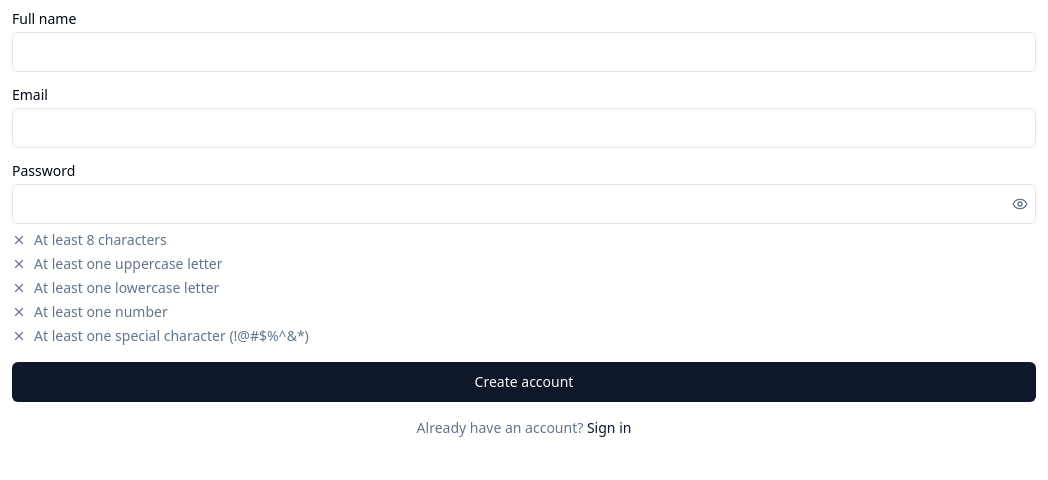
RegisterForm › shows a password complexity message
Type "Jane" into the field labelled "Full name" at [524, 52], box x1=12 y1=32 x2=1036 y2=72
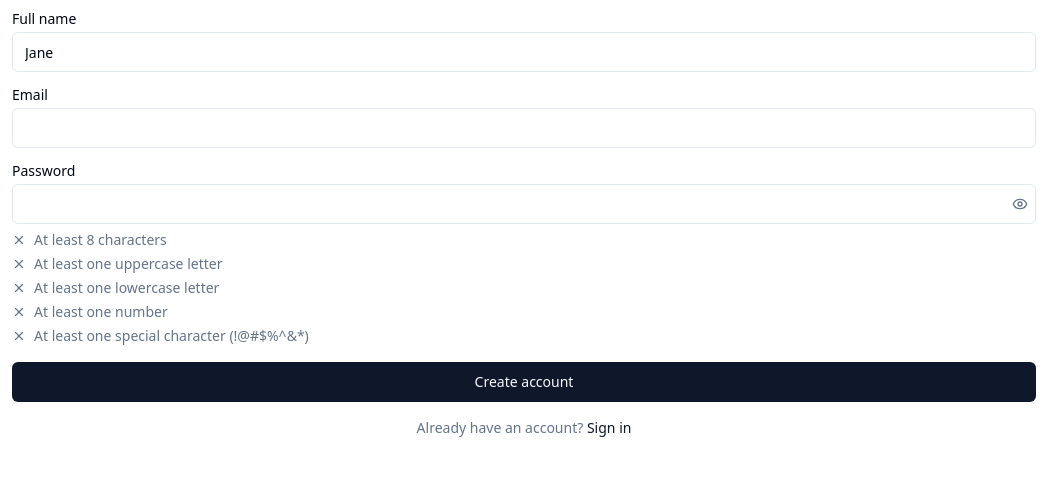
Type "jane@example.com" into the field labelled "Email" at [524, 128], box x1=12 y1=108 x2=1036 y2=148
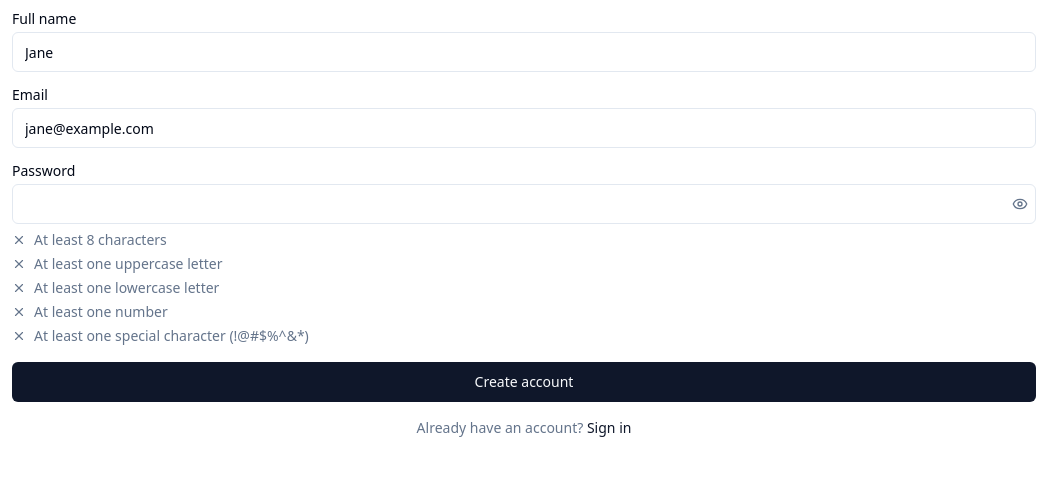
Type "alllowercase1!" into the password field labelled "Password" at [524, 204], box x1=12 y1=184 x2=1036 y2=224
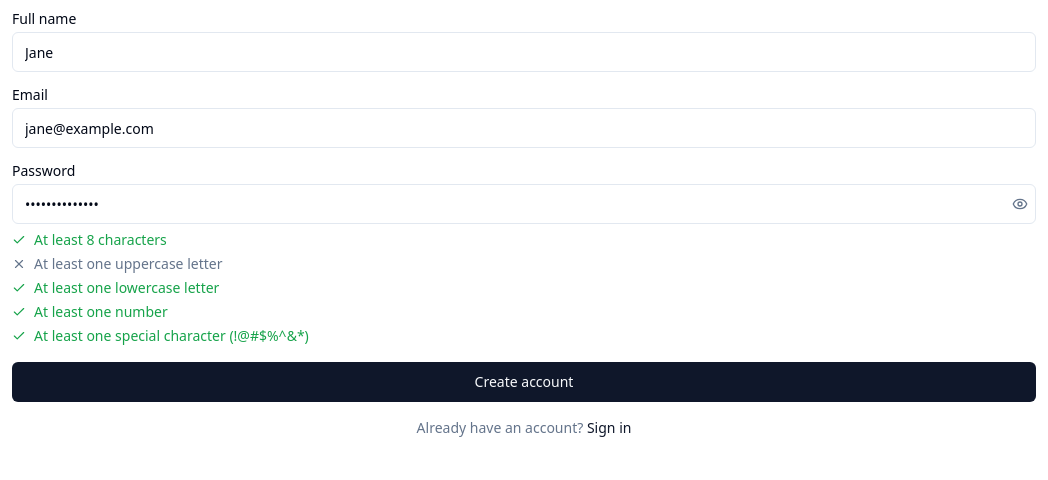
Click the button "Create account" at [524, 382], box x1=12 y1=362 x2=1036 y2=402
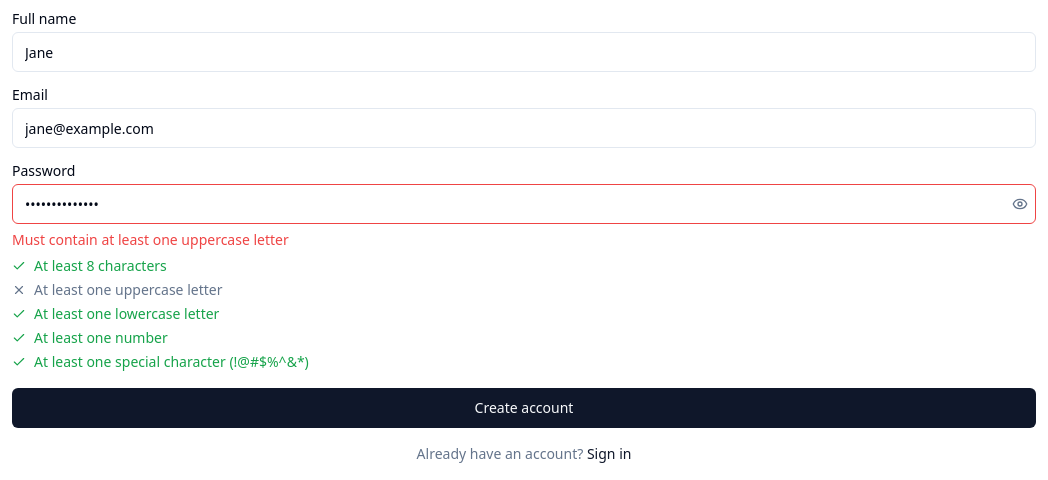
Expected: the text "Must contain at least one uppercase letter" is shown, x1=12 y1=230 x2=289 y2=249
